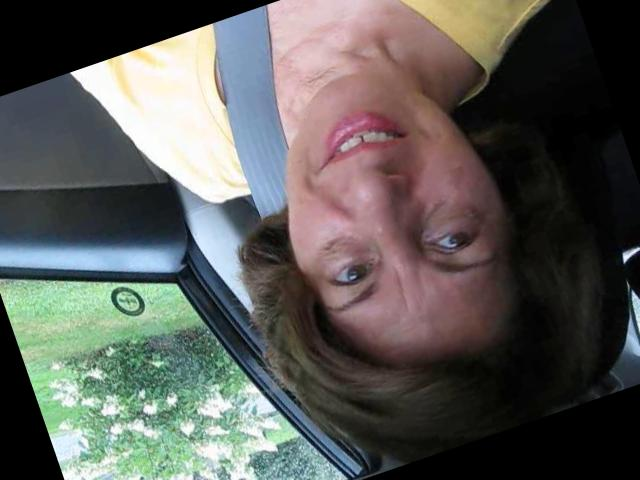eye_open: (424, 212, 494, 266), (317, 246, 386, 298)
face: (241, 39, 526, 349)
